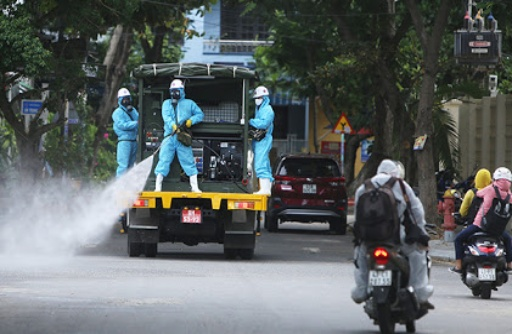plate: (365, 266, 391, 287), (181, 206, 204, 224), (475, 266, 496, 281), (303, 183, 317, 192)
